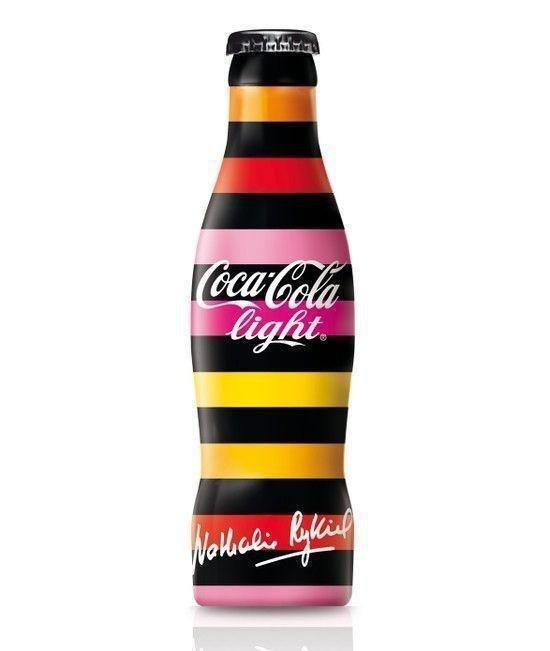bottle-glass: (183, 23, 362, 612)
